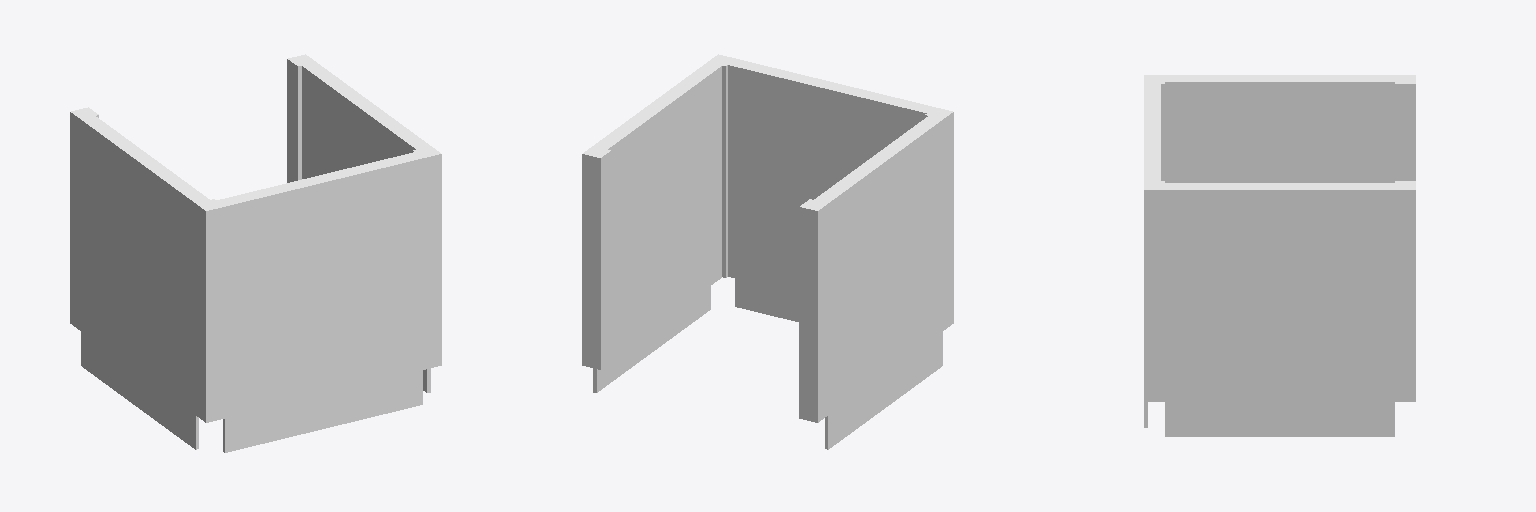
Rendered from Wall-1101.obj.
3 renders of one model, left to right at view 1: azimuth 30°, elevation 25°; view 2: azimuth 150°, elevation 25°; view 3: azimuth 270°, elevation 25°, orthographic.
Size of the model in its own units: 64 by 64 by 64.